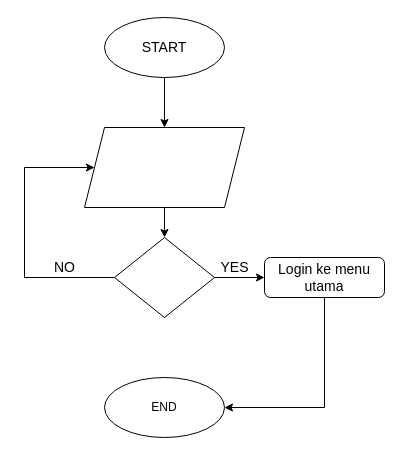
Some shapes in this 402 by 455 pixel diagram are drawn without their labels. Here are the shapes that lost their labels. From the top down, the centre of each, then its label:
At (x=164, y=167): "masukan email dan password akun".
At (x=164, y=277): "Data valid".
